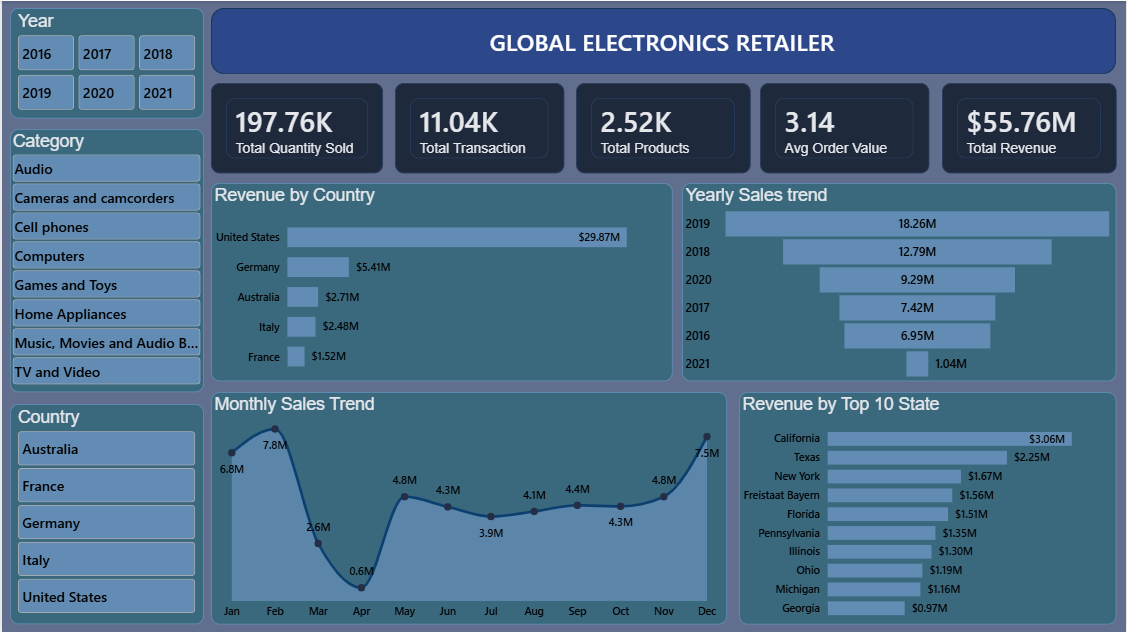

What the dashboard file says about the page in this screenshot:
{"tool":"powerbi","page":{"name":"Sales Performance Analysis","canvas":[1280,720],"ordinal":0},"visuals":[{"type":"cardVisual","fields":{"Data":["Measures_Table.Total Quantity Sold"]},"box":[238.4,93.1,196.3,103.3],"z":0},{"type":"cardVisual","fields":{"Data":["Measures_Table.Total Transaction"]},"box":[447.5,93.1,192.5,103.3],"z":1000},{"type":"areaChart","title":"Monthly Sales Trend","fields":{"Category":["Sales.Month Name"],"Y":["Measures_Table.Total Sales"]},"box":[238.4,444.9,587.7,265.2],"z":2000},{"type":"funnel","title":"Yearly Sales trend","fields":{"Category":["Sales.Year"],"Y":["Measures_Table.Total Sales"]},"box":[775.1,207.8,494.7,225.7],"z":3000},{"type":"barChart","title":" Revenue by Country","fields":{"Category":["Customers.Country"],"Y":["Measures_Table.Total Revenue"]},"box":[237.8,207.4,525.7,225.9],"z":4000},{"type":"barChart","title":"Revenue by Top 10 State","fields":{"Category":["Customers.State"],"Y":["Measures_Table.Total Revenue"]},"box":[840.2,444.9,429.6,265.2],"z":5000},{"type":"cardVisual","fields":{"Data":["Measures_Table.Total Products"]},"box":[654,93.1,198.9,103.3],"z":6000},{"type":"advancedSlicerVisual","fields":{"Values":["Sales.Year"]},"box":[8.9,7.6,220.6,126.2],"z":7000},{"type":"advancedSlicerVisual","fields":{"Values":["Customers.Country"]},"box":[8.9,459,220.6,251.2],"z":8000},{"type":"advancedSlicerVisual","fields":{"Values":["Products.Category"]},"box":[8.9,145.3,220.6,299.6],"z":9000},{"type":"cardVisual","fields":{"Data":["Measures_Table.Avg Order Value"]},"box":[863.1,93.1,192.5,103.3],"z":10000},{"type":"cardVisual","fields":{"Data":["Measures_Table.Total Revenue"]},"box":[1070.9,93.1,198.9,103.3],"z":11000},{"type":"group","id":"g1","title":"Group 1","box":[238.4,7.6,1031,75.2],"z":12000},{"type":"shape","box":[238.4,7.6,1031,75.2],"z":12000,"group":"g1"},{"type":"textbox","box":[543.1,22.9,419.4,45.9],"z":13000,"group":"g1"}]}

Visuals, with their boxes in screenshot pixels (x1, y1, x2, y2), scaled from the page's 1280x720 canvas onto the 1127x632 screenshot:
cardVisual - Measures_Table.Total Quantity Sold: box(210, 82, 383, 172)
cardVisual - Measures_Table.Total Transaction: box(394, 82, 564, 172)
"Monthly Sales Trend" areaChart: box(210, 391, 727, 623)
"Yearly Sales trend" funnel: box(682, 182, 1118, 381)
" Revenue by Country" barChart: box(209, 182, 672, 380)
"Revenue by Top 10 State" barChart: box(740, 391, 1118, 623)
cardVisual - Measures_Table.Total Products: box(576, 82, 751, 172)
advancedSlicerVisual - Sales.Year: box(8, 7, 202, 117)
advancedSlicerVisual - Customers.Country: box(8, 403, 202, 623)
advancedSlicerVisual - Products.Category: box(8, 128, 202, 391)
cardVisual - Measures_Table.Avg Order Value: box(760, 82, 929, 172)
cardVisual - Measures_Table.Total Revenue: box(943, 82, 1118, 172)
"Group 1" group: box(210, 7, 1118, 73)
shape: box(210, 7, 1118, 73)
textbox: box(478, 20, 847, 60)
